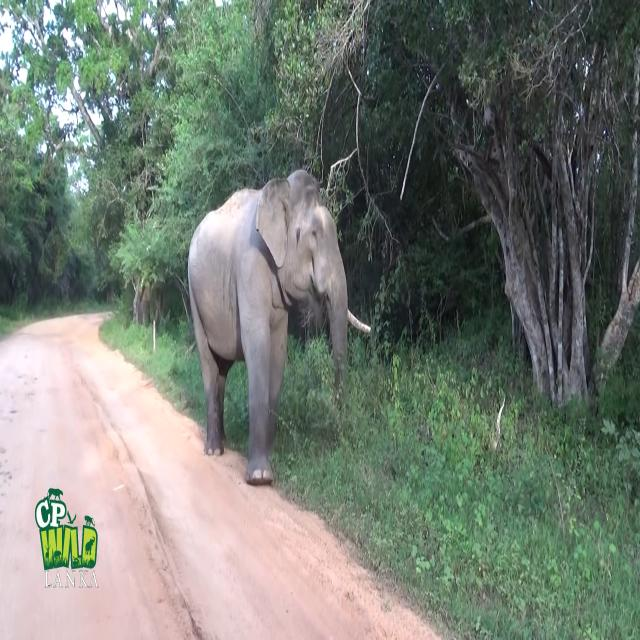Elephant: (187, 168, 371, 486)
